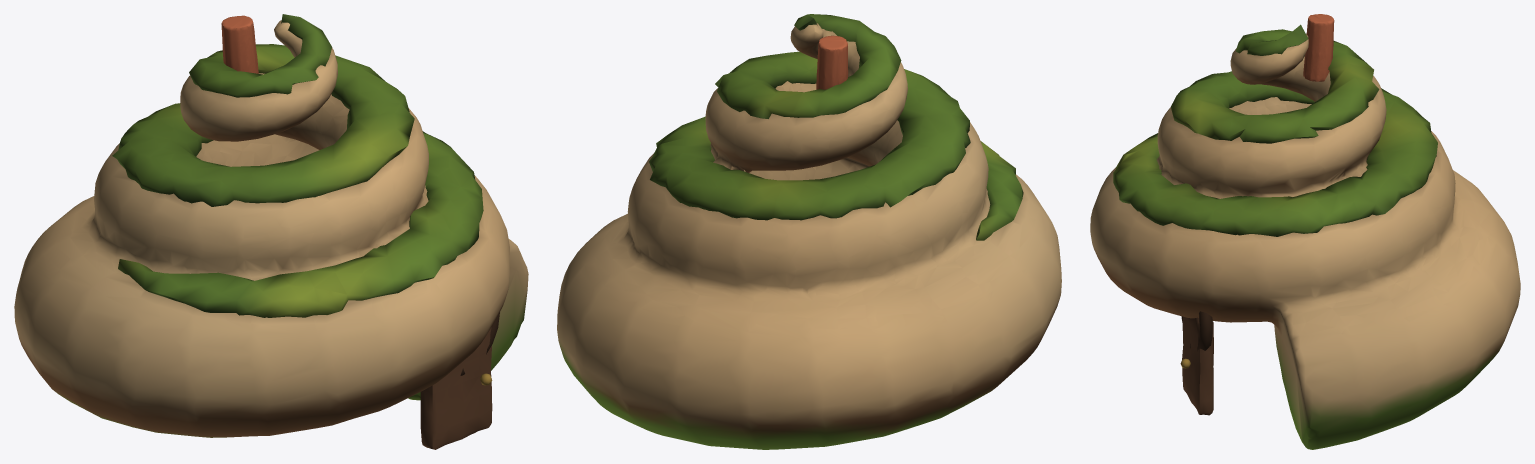
The model's file is mire_snail_shell.glb.
3 views of the same model, side by side, from view 1: azimuth 30°, elevation 25°; view 2: azimuth 150°, elevation 25°; view 3: azimuth 270°, elevation 25° (orthographic). The views are drawn at different scales.
Parts seen in each view (by area): view 1: mire_snail_shell; view 2: mire_snail_shell; view 3: mire_snail_shell.
Part boxes in pixels (x1=…): mire_snail_shell: x1=14, y1=14, x2=528, y2=449; mire_snail_shell: x1=557, y1=14, x2=1061, y2=449; mire_snail_shell: x1=1090, y1=14, x2=1520, y2=449.
Bounding box in the file's own units: 13.03 × 10.76 × 12.24.
